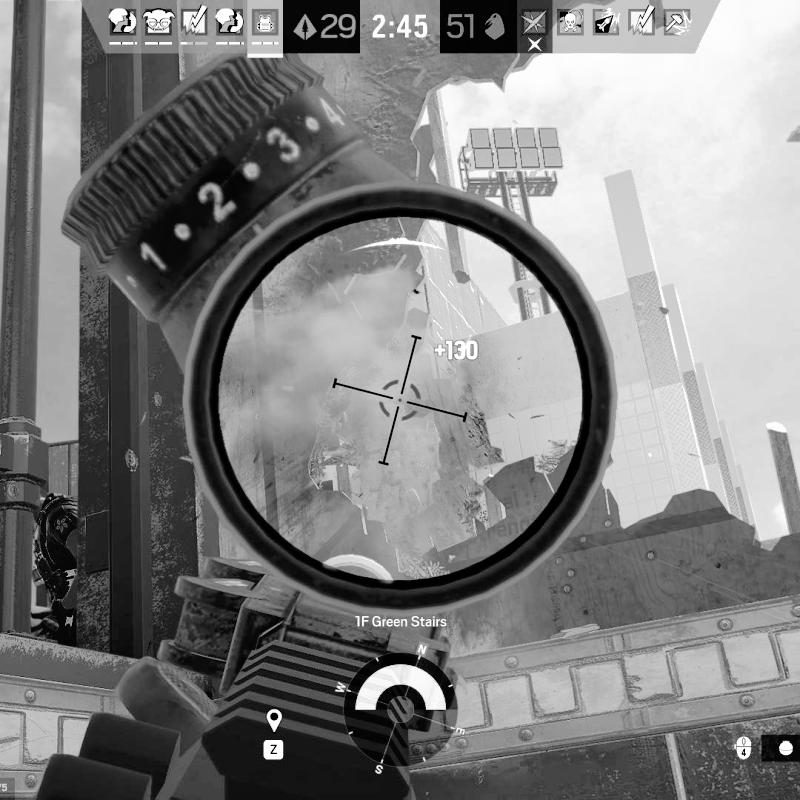Character: (31, 488, 85, 642)
